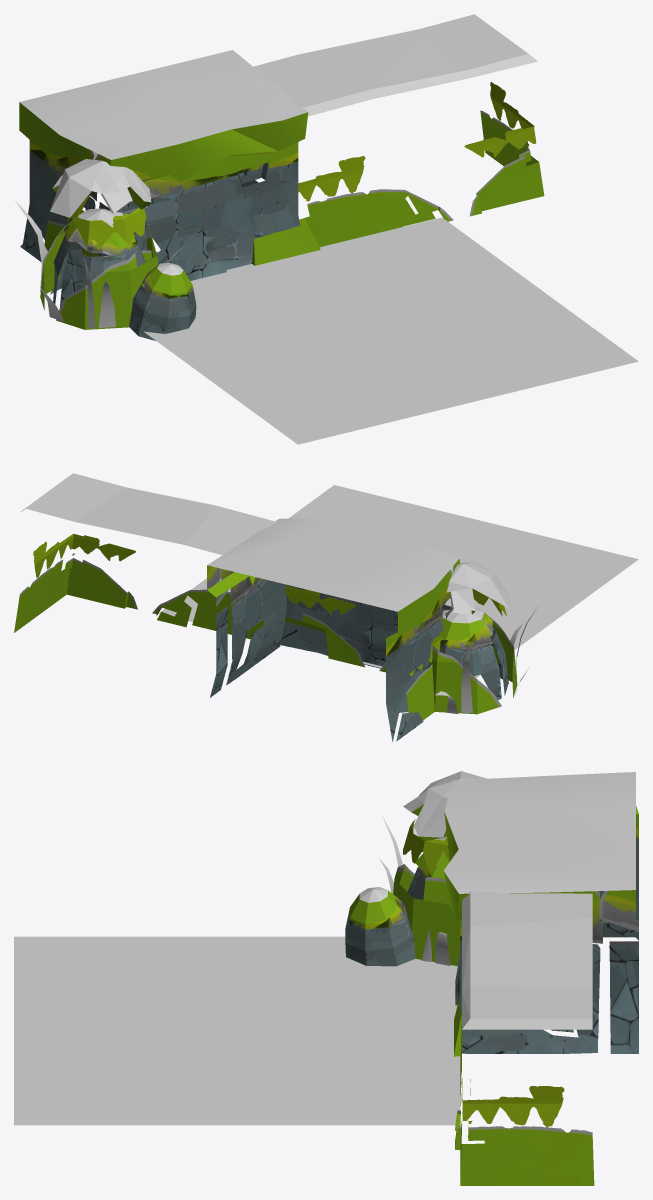
3 renders of one model, top to bottom at view 1: azimuth 30°, elevation 25°; view 2: azimuth 150°, elevation 25°; view 3: azimuth 270°, elevation 25°, orthographic. The views are drawn at different scales.
Visible parts, largest first — view 1: ground_square_01, rock_wall_01, rock_wall_02, rock_01, rock_02, Plane.002; view 2: rock_wall_01, rock_wall_02, ground_square_01, rock_01, rock_02, Plane.002; view 3: ground_square_01, rock_wall_01, rock_wall_02, rock_01, rock_02, Plane.002.
Part boxes in pixels (box(x1,y1,x2,y2)): ground_square_01: box(144, 217, 638, 444); rock_wall_01: box(19, 50, 308, 280); rock_wall_02: box(44, 14, 544, 265); rock_01: box(40, 159, 157, 329); rock_02: box(50, 208, 196, 340); Plane.002: box(15, 201, 184, 329); rock_wall_01: box(207, 517, 459, 741); rock_wall_02: box(14, 473, 452, 720); ground_square_01: box(158, 485, 638, 678); rock_01: box(429, 562, 517, 714); rock_02: box(434, 607, 508, 699); Plane.002: box(435, 606, 538, 713); ground_square_01: box(14, 936, 460, 1125); rock_wall_01: box(443, 772, 638, 1053); rock_wall_02: box(453, 891, 594, 1185); rock_01: box(393, 771, 486, 965); rock_02: box(345, 836, 449, 966); Plane.002: box(379, 816, 450, 965).
Bounding box in the file's own units: 15.01 × 4.44 × 14.
